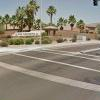Crosswalk: (15, 43, 97, 91)
